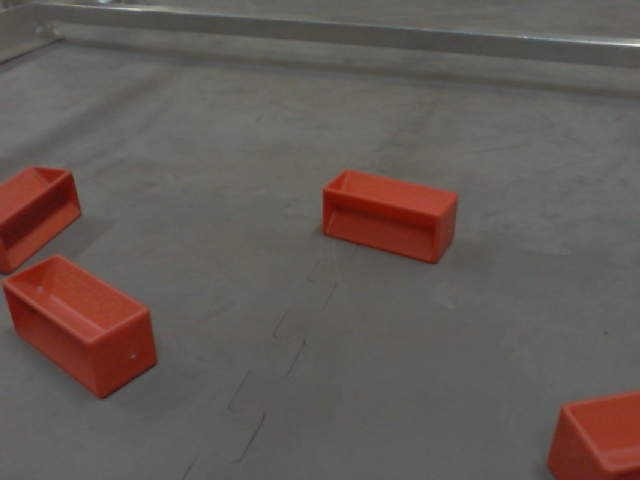RedSample: (1, 256, 162, 400), (318, 170, 465, 270), (1, 159, 85, 278), (544, 387, 640, 480)
